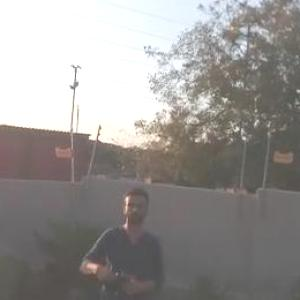follow: (74, 173, 171, 299)
